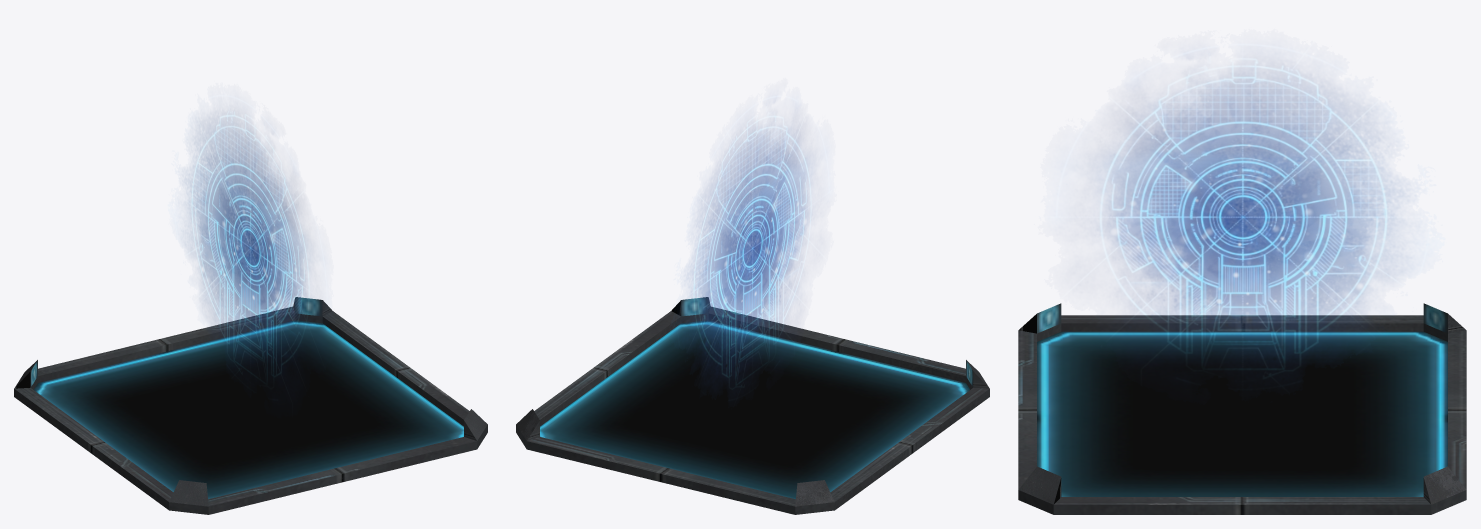
File: holoprojector.glb
The picture shows the model from 3 angles, left to right: view 1: azimuth 30°, elevation 25°; view 2: azimuth 150°, elevation 25°; view 3: azimuth 270°, elevation 25°; orthographic projection. The views are drawn at different scales.
Parts seen in each view (by area): view 1: HoloProjectorBase, HoloProjectorProjection; view 2: HoloProjectorBase, HoloProjectorProjection; view 3: HoloProjectorBase, HoloProjectorProjection.
Boxes of the visible parts, x1,y1,x2,y2 form: HoloProjectorBase: (14,297,487,514); HoloProjectorProjection: (188,112,308,370); HoloProjectorBase: (516,297,989,514); HoloProjectorProjection: (690,124,810,378); HoloProjectorBase: (1018,303,1466,514); HoloProjectorProjection: (1099,66,1400,360).
Size of the model in its own units: 3.38 by 3.38 by 3.38.
Materials: 2 (2 with a texture image).
